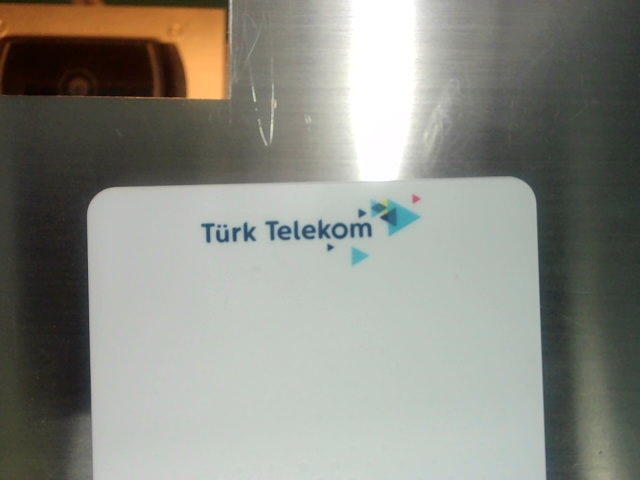AQ_TURKTelekom: (195, 190, 436, 268)
